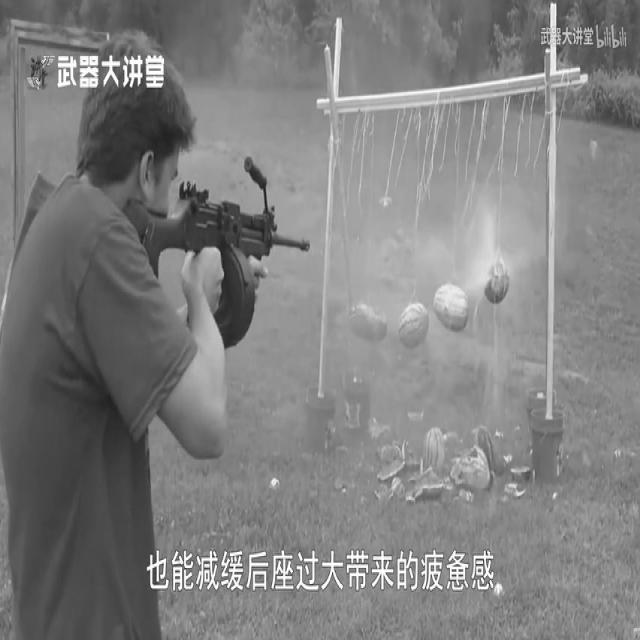Sniper: (105, 72, 332, 417)
